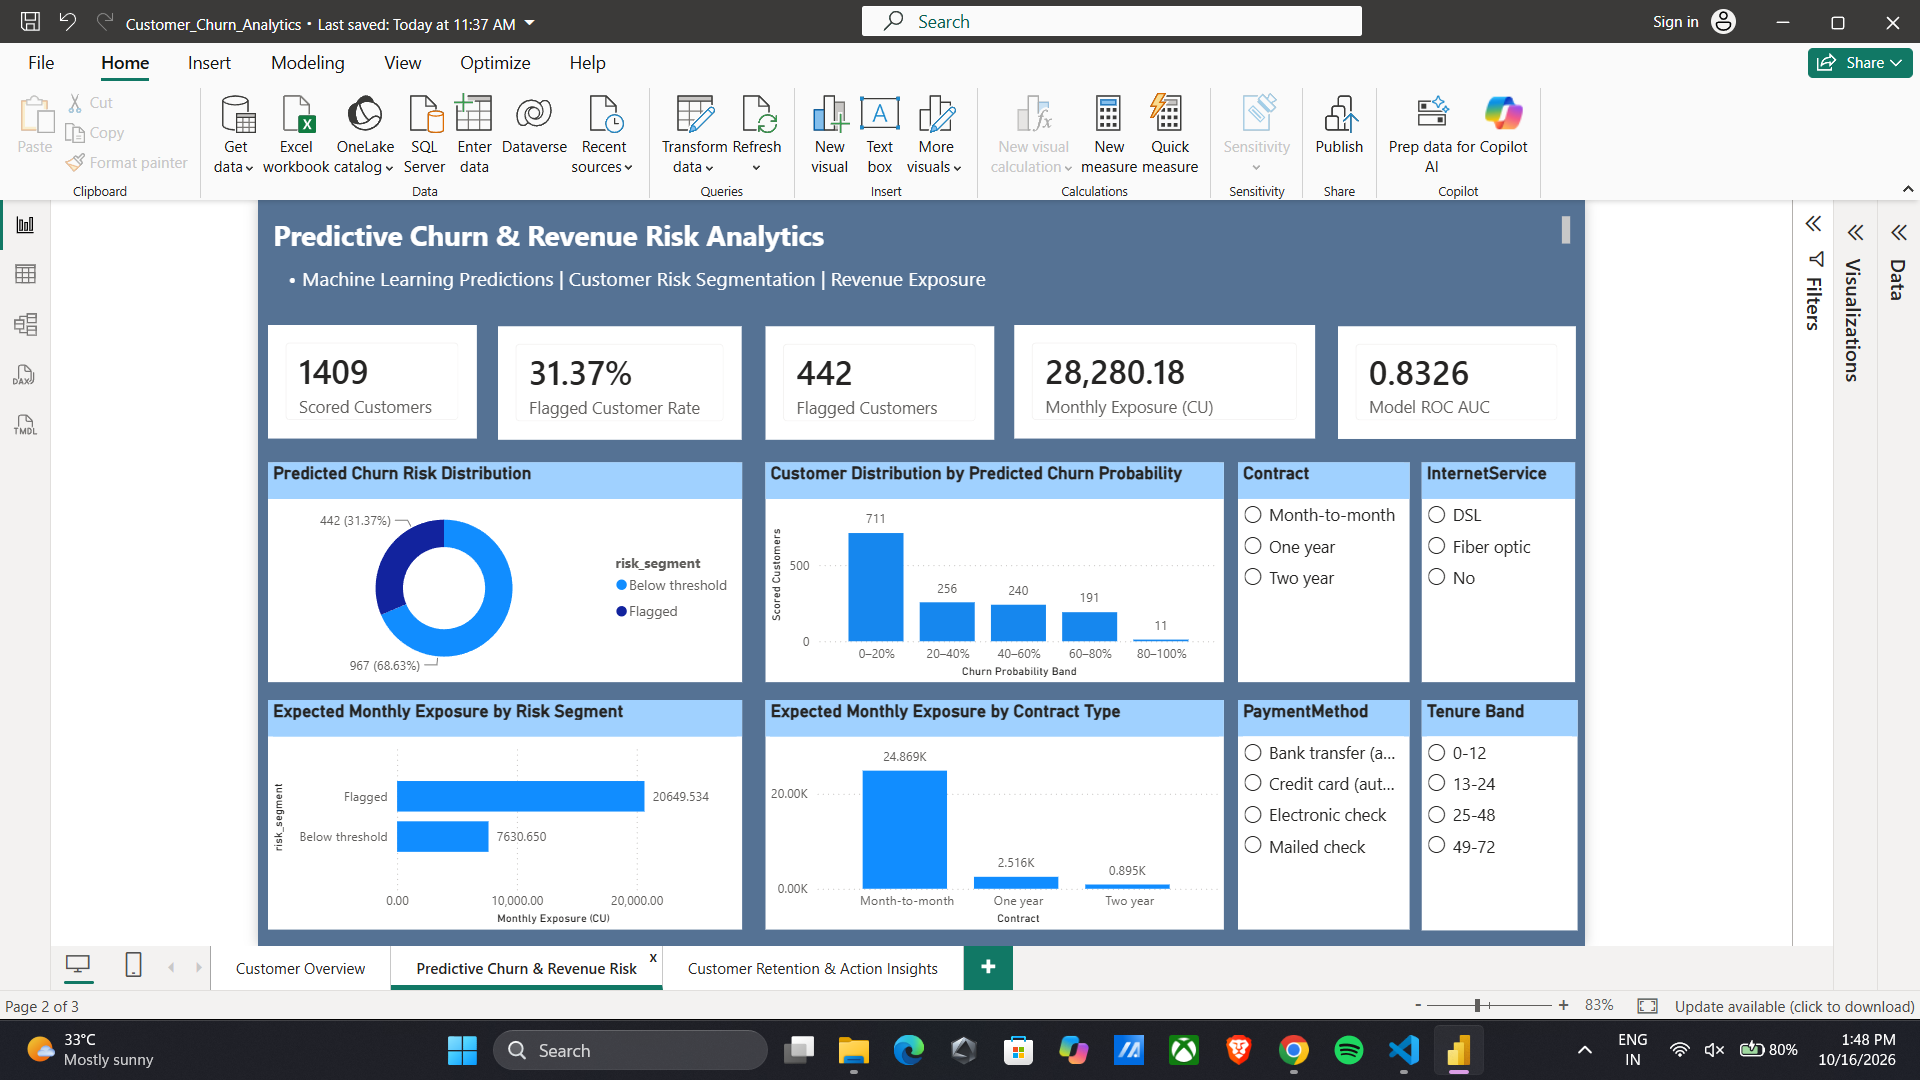

The page's visual inventory and layout, read from the dashboard file:
{"tool":"powerbi","page":{"name":"Predictive Churn & Revenue Risk","canvas":[1280,720],"ordinal":1},"visuals":[{"type":"textbox","box":[10,11.4,1261.5,47],"z":0},{"type":"textbox","box":[10,58.4,1261.5,47],"z":1000},{"type":"cardVisual","fields":{"Data":["model_evaluation.Model ROC AUC"]},"box":[1042.4,121.9,229.6,108.5],"z":2000},{"type":"cardVisual","fields":{"Data":["customer_risk.Scored Customers"]},"box":[9.7,120.6,201.5,109.8],"z":3000},{"type":"cardVisual","fields":{"Data":["customer_risk.Flagged Customers"]},"box":[489.8,121.9,220.8,109.8],"z":4000},{"type":"cardVisual","fields":{"Data":["customer_risk.Flagged Customer Rate"]},"box":[231.6,121.9,235.3,109.8],"z":5000},{"type":"cardVisual","fields":{"Data":["customer_risk.Expected Monthly Charge Exposure"]},"box":[729.9,120.6,290.8,109.9],"z":6000},{"type":"donutChart","title":"Predicted Churn Risk Distribution","fields":{"Category":["customer_risk.risk_segment"],"Y":["customer_risk.Scored Customers"]},"box":[9.7,253.4,457.2,212.3],"z":7000},{"type":"columnChart","title":"Customer Distribution by Predicted Churn Probability","fields":{"Category":["customer_risk.Churn Probability Band"],"Y":["customer_risk.Scored Customers"]},"box":[489.8,253.4,442.8,212.3],"z":8000},{"type":"clusteredBarChart","title":"Expected Monthly Exposure by Risk Segment","fields":{"Category":["customer_risk.risk_segment"],"Y":["Sum(customer_risk.expected_monthly_charge_exposure_cu)"]},"box":[9.7,482.6,457.2,222],"z":9000},{"type":"clusteredColumnChart","title":"Expected Monthly Exposure by Contract Type","fields":{"Category":["customer_risk.Contract"],"Y":["Sum(customer_risk.expected_monthly_charge_exposure_cu)"]},"box":[489.8,482.6,442.8,222],"z":10000},{"type":"listSlicer","fields":{"Values":["customer_risk.Contract"]},"box":[945.8,253.4,165.3,212.3],"z":11000},{"type":"listSlicer","fields":{"Values":["customer_risk.InternetService"]},"box":[1123.2,253.4,148.4,212.3],"z":12000},{"type":"listSlicer","fields":{"Values":["customer_risk.PaymentMethod"]},"box":[945.8,482.6,165.3,222],"z":13000},{"type":"listSlicer","title":"Tenure Band","fields":{"Values":["customer_risk.tenure_band"]},"box":[1123,483,150,222],"z":14000}]}

Visuals, with their boxes on the page's 1280x720 design canvas (x1, y1, x2, y2). These are canvas units, not pixel positions in the 1920x1080 screenshot, which may show the page scaled, cropped or inside an application window:
textbox: region(10, 11, 1272, 58)
textbox: region(10, 58, 1272, 105)
cardVisual - model_evaluation.Model ROC AUC: region(1042, 122, 1272, 230)
cardVisual - customer_risk.Scored Customers: region(10, 121, 211, 230)
cardVisual - customer_risk.Flagged Customers: region(490, 122, 711, 232)
cardVisual - customer_risk.Flagged Customer Rate: region(232, 122, 467, 232)
cardVisual - customer_risk.Expected Monthly Charge Exposure: region(730, 121, 1021, 230)
"Predicted Churn Risk Distribution" donutChart: region(10, 253, 467, 466)
"Customer Distribution by Predicted Churn Probability" columnChart: region(490, 253, 933, 466)
"Expected Monthly Exposure by Risk Segment" clusteredBarChart: region(10, 483, 467, 705)
"Expected Monthly Exposure by Contract Type" clusteredColumnChart: region(490, 483, 933, 705)
listSlicer - customer_risk.Contract: region(946, 253, 1111, 466)
listSlicer - customer_risk.InternetService: region(1123, 253, 1272, 466)
listSlicer - customer_risk.PaymentMethod: region(946, 483, 1111, 705)
"Tenure Band" listSlicer: region(1123, 483, 1273, 705)
